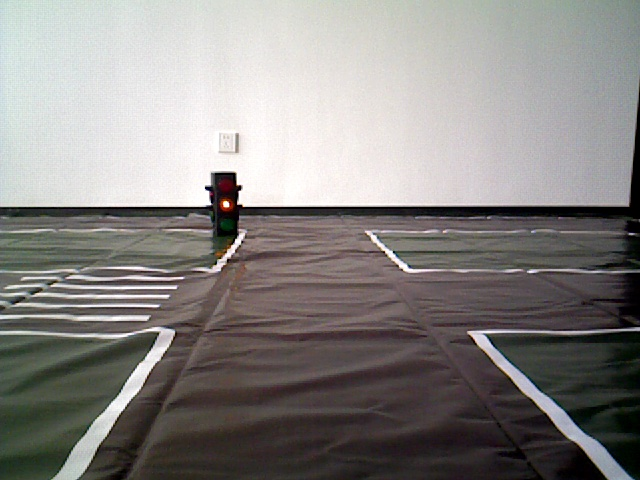yellow: (207, 170, 243, 238)
